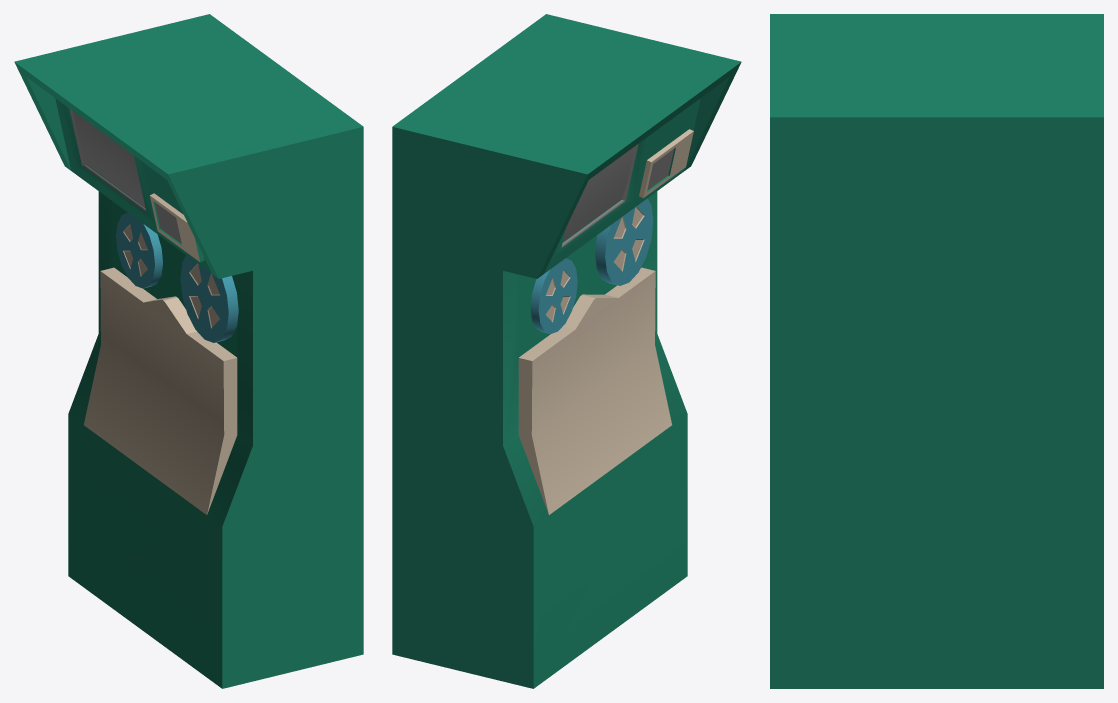
Rendered from A_StandingConsole.fbx.
3 views of the same model, side by side, from view 1: azimuth 30°, elevation 25°; view 2: azimuth 150°, elevation 25°; view 3: azimuth 270°, elevation 25° (orthographic). The views are drawn at different scales.
Parts seen in each view (by area): view 1: A_StandingConsole, ReelConsole, ReelConsole1; view 2: A_StandingConsole, ReelConsole, ReelConsole1; view 3: A_StandingConsole.
Part boxes in pixels (left/top/right/bottom): A_StandingConsole: left=14, top=14, right=363, bottom=688; ReelConsole: left=180, top=255, right=238, bottom=342; ReelConsole1: left=116, top=212, right=162, bottom=288; A_StandingConsole: left=392, top=14, right=741, bottom=688; ReelConsole: left=595, top=198, right=653, bottom=285; ReelConsole1: left=530, top=258, right=577, bottom=334; A_StandingConsole: left=770, top=14, right=1103, bottom=688.
Size of the model in its own units: 4.31 by 11.11 by 5.88.
